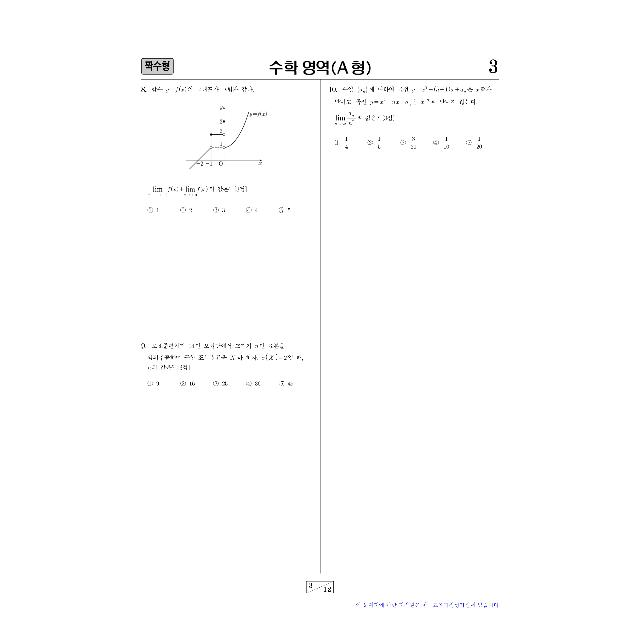multiple: (134, 81, 316, 227), (324, 82, 506, 160), (134, 334, 318, 394)
